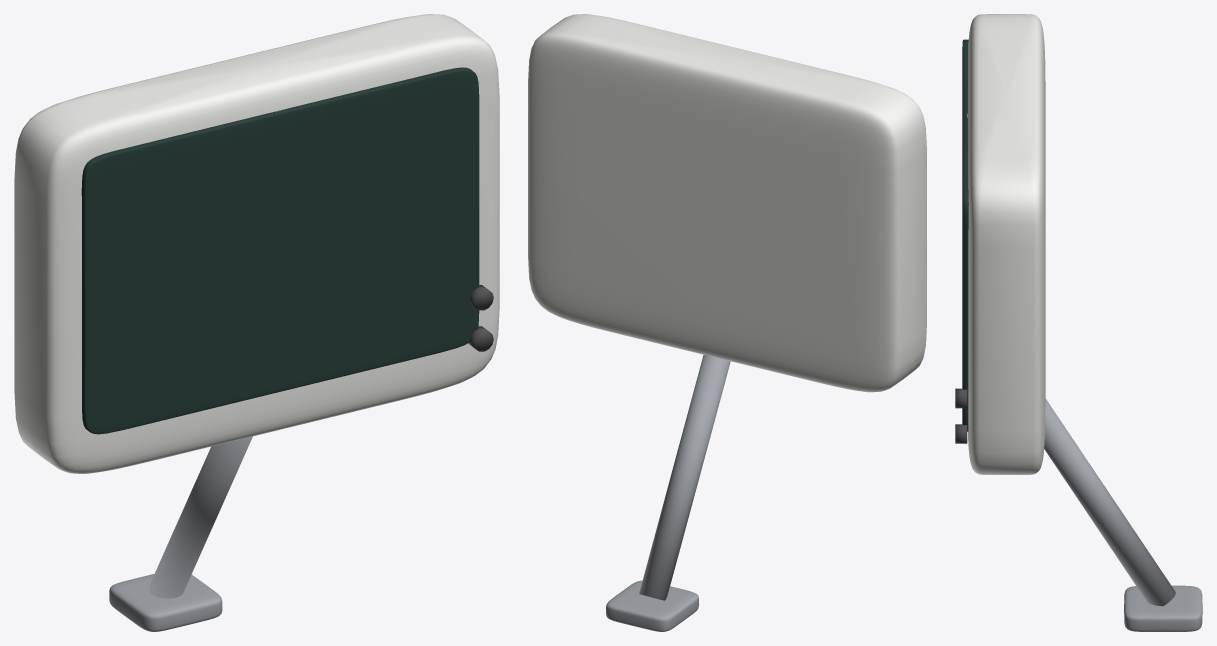
Rendered from monitor.glb.
3 renders of one model, left to right at view 1: azimuth 30°, elevation 25°; view 2: azimuth 150°, elevation 25°; view 3: azimuth 270°, elevation 25°, orthographic. The views are drawn at different scales.
Visible parts, largest first — view 1: Screen, Casing, Arm, Knobs; view 2: Casing, Arm; view 3: Casing, Arm, Screen, Knobs.
Part boxes in pixels (bbox=[...]): Screen: bbox=[81, 67, 479, 434]; Casing: bbox=[14, 14, 499, 473]; Arm: bbox=[109, 436, 252, 631]; Knobs: bbox=[468, 285, 493, 351]; Casing: bbox=[528, 14, 926, 392]; Arm: bbox=[606, 355, 730, 631]; Casing: bbox=[968, 14, 1045, 474]; Arm: bbox=[1044, 399, 1202, 631]; Screen: bbox=[962, 39, 968, 431]; Knobs: bbox=[955, 388, 967, 443].
Bounding box in the file's own units: 0.4597 × 0.59 × 0.252.
